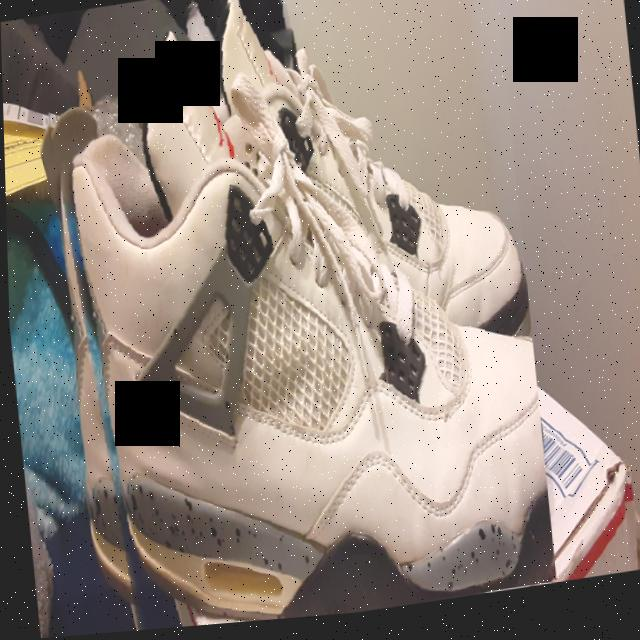shoe: (31, 0, 553, 638), (173, 0, 518, 385)
